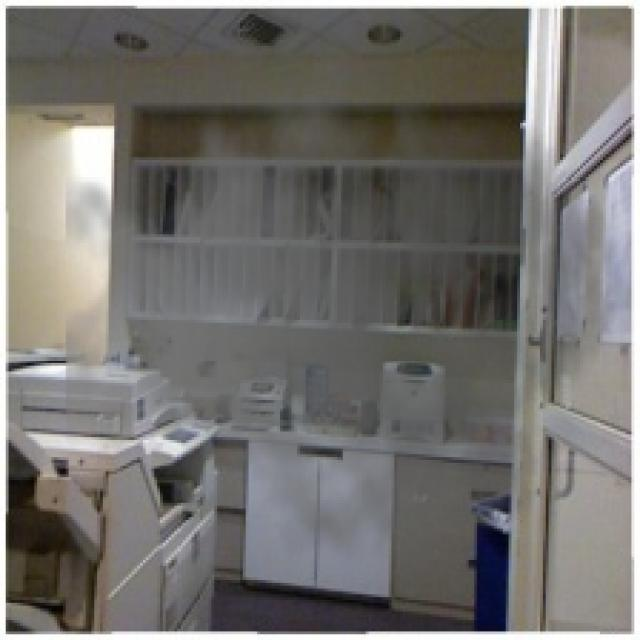smoke: (66, 26, 617, 583)
